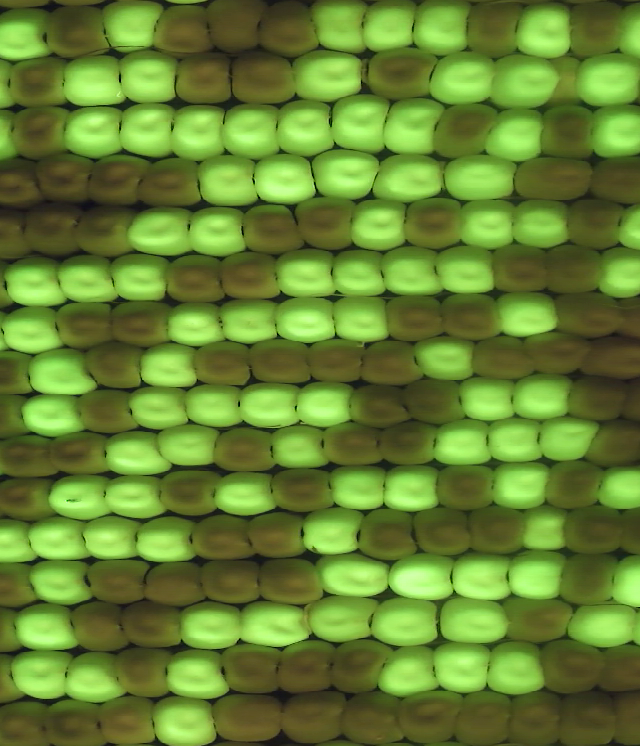fluorescent: (284, 46, 371, 105), (305, 144, 388, 205), (248, 148, 328, 211), (372, 638, 453, 700), (192, 149, 268, 215), (53, 245, 126, 313), (123, 201, 200, 265), (376, 240, 453, 304), (310, 548, 398, 604), (486, 49, 563, 113), (383, 545, 462, 607), (268, 93, 340, 161), (232, 597, 319, 653), (161, 642, 238, 705), (426, 44, 503, 107), (378, 92, 449, 160), (485, 454, 558, 520), (448, 545, 523, 609), (58, 50, 135, 112), (5, 643, 82, 705), (432, 591, 517, 647), (296, 499, 372, 561), (22, 343, 103, 401), (562, 595, 640, 655), (217, 100, 290, 164), (507, 1, 580, 65), (369, 150, 449, 208), (451, 195, 527, 256), (477, 638, 553, 699), (408, 328, 485, 388), (0, 250, 74, 312), (451, 368, 525, 430), (268, 243, 343, 304), (368, 590, 444, 650), (483, 103, 554, 167), (303, 592, 387, 646), (501, 543, 574, 605), (25, 554, 103, 612), (16, 387, 98, 442), (58, 648, 133, 708), (116, 98, 183, 165), (166, 100, 232, 168), (327, 90, 393, 158), (175, 596, 251, 655), (96, 1, 173, 59), (326, 245, 398, 307), (431, 239, 503, 301), (506, 366, 579, 427), (97, 469, 175, 526), (429, 633, 497, 698), (102, 425, 179, 482), (116, 45, 183, 110), (60, 101, 128, 165), (533, 410, 608, 468), (344, 192, 413, 255), (441, 149, 523, 202), (131, 512, 207, 569), (508, 194, 579, 255), (232, 376, 309, 432), (148, 690, 225, 746), (105, 248, 178, 307), (0, 300, 74, 358), (427, 413, 501, 471), (153, 420, 231, 475), (492, 286, 568, 342), (213, 464, 286, 522), (183, 201, 253, 261), (10, 600, 83, 657), (271, 292, 346, 347), (123, 380, 199, 434), (407, 1, 477, 59), (130, 338, 205, 392), (27, 513, 98, 570), (328, 291, 397, 349), (45, 471, 119, 525), (577, 48, 640, 111), (216, 292, 288, 347), (291, 375, 364, 429), (305, 1, 374, 58), (263, 421, 338, 473), (80, 510, 146, 569), (181, 378, 253, 432), (378, 460, 446, 517), (357, 1, 423, 59), (326, 460, 394, 516), (482, 413, 550, 468), (0, 3, 58, 67), (163, 295, 233, 348), (584, 98, 640, 162), (517, 500, 577, 554), (592, 240, 640, 305), (0, 510, 46, 568), (597, 458, 640, 516), (604, 545, 640, 610)
nonfluorescent: (223, 44, 313, 112), (363, 38, 443, 108), (128, 150, 210, 215), (533, 636, 618, 698), (168, 47, 244, 115), (493, 592, 582, 649), (324, 635, 403, 699), (6, 100, 81, 167), (25, 145, 101, 211), (214, 637, 293, 700), (391, 684, 471, 746), (207, 687, 291, 746), (156, 248, 232, 313), (274, 685, 354, 746), (250, 1, 327, 64), (508, 153, 601, 205), (432, 96, 504, 163), (291, 191, 365, 256), (20, 197, 92, 263), (254, 550, 333, 610), (550, 285, 634, 341), (554, 544, 624, 611), (271, 635, 343, 700), (398, 191, 473, 253), (147, 1, 225, 60), (67, 201, 145, 260), (554, 683, 627, 746), (43, 1, 117, 63), (206, 422, 285, 480), (80, 150, 156, 210), (139, 554, 215, 614), (538, 240, 613, 300), (6, 50, 76, 114), (338, 683, 409, 746), (108, 642, 179, 705), (353, 334, 430, 392), (350, 504, 423, 565), (116, 597, 190, 657), (559, 500, 633, 560), (213, 247, 288, 306), (561, 191, 632, 253), (83, 554, 163, 609), (518, 325, 598, 380), (184, 335, 258, 394), (563, 1, 632, 64), (451, 685, 522, 746), (381, 287, 453, 347), (315, 415, 388, 474), (68, 595, 134, 660), (484, 238, 554, 299), (238, 199, 310, 258), (346, 378, 418, 437), (196, 554, 268, 613), (78, 335, 147, 396), (532, 100, 601, 161), (397, 374, 472, 430), (244, 505, 314, 565), (410, 500, 477, 562), (108, 298, 182, 354), (462, 1, 531, 61), (432, 457, 503, 515), (36, 692, 112, 746), (245, 335, 317, 392), (47, 425, 119, 482), (265, 463, 341, 517), (441, 286, 507, 348), (500, 685, 567, 746), (373, 414, 443, 472), (538, 455, 610, 511), (96, 691, 169, 746), (156, 466, 226, 523), (563, 370, 635, 425), (186, 511, 259, 565), (54, 299, 123, 356), (0, 430, 69, 487), (202, 1, 270, 57), (73, 385, 141, 440), (467, 332, 541, 382), (303, 335, 370, 390), (573, 330, 640, 385), (0, 470, 62, 526), (582, 415, 640, 471), (587, 151, 640, 208), (0, 152, 48, 212), (0, 694, 55, 746), (0, 554, 46, 614), (591, 639, 640, 695), (0, 386, 37, 445), (0, 348, 43, 398), (0, 599, 33, 661), (607, 684, 640, 746), (608, 290, 640, 352), (0, 204, 31, 266)
